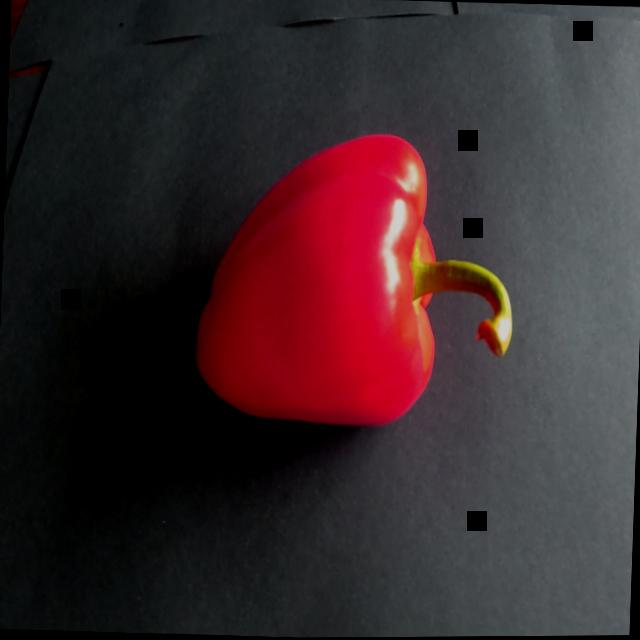Redpepper: (136, 95, 541, 478)
